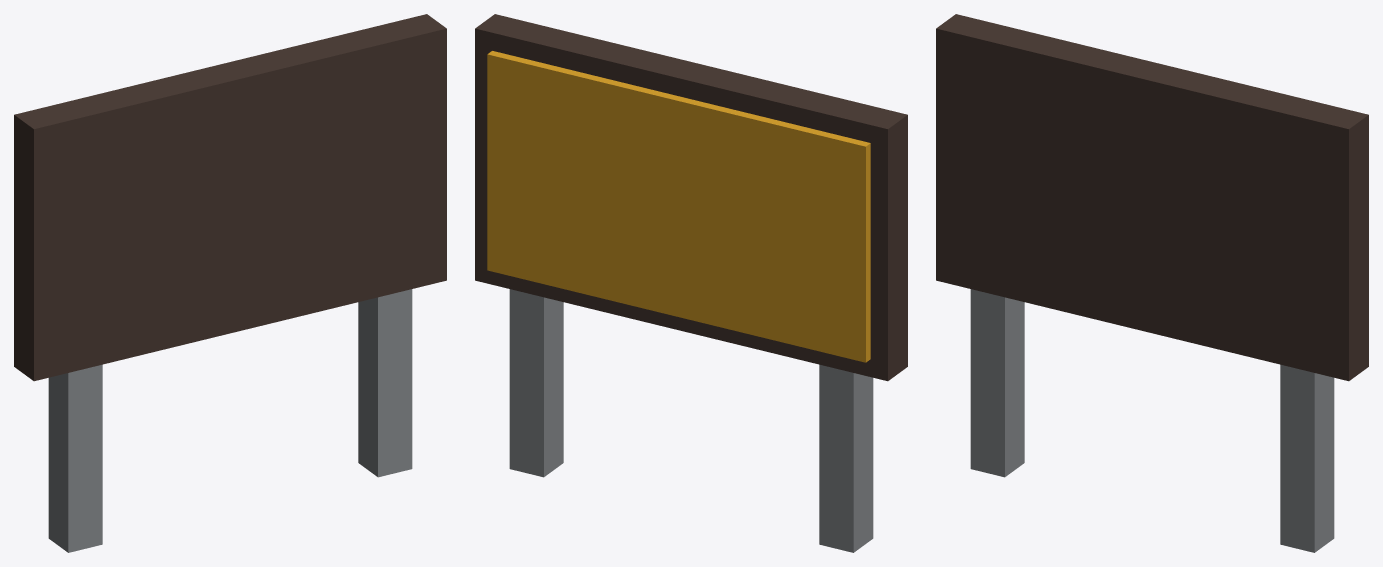
File: menu-board.glb
3 renders of one model, left to right at view 1: azimuth 30°, elevation 25°; view 2: azimuth 150°, elevation 25°; view 3: azimuth 330°, elevation 25°, orthographic.
Visible parts, largest first — view 1: menu-board; view 2: menu-board; view 3: menu-board.
Boxes of the visible parts, x1,y1,x2,y2 form: menu-board: [14, 14, 446, 552]; menu-board: [475, 14, 907, 552]; menu-board: [936, 14, 1368, 552].
Bounding box in the file's own units: 2.4 × 2.4 × 0.25.
